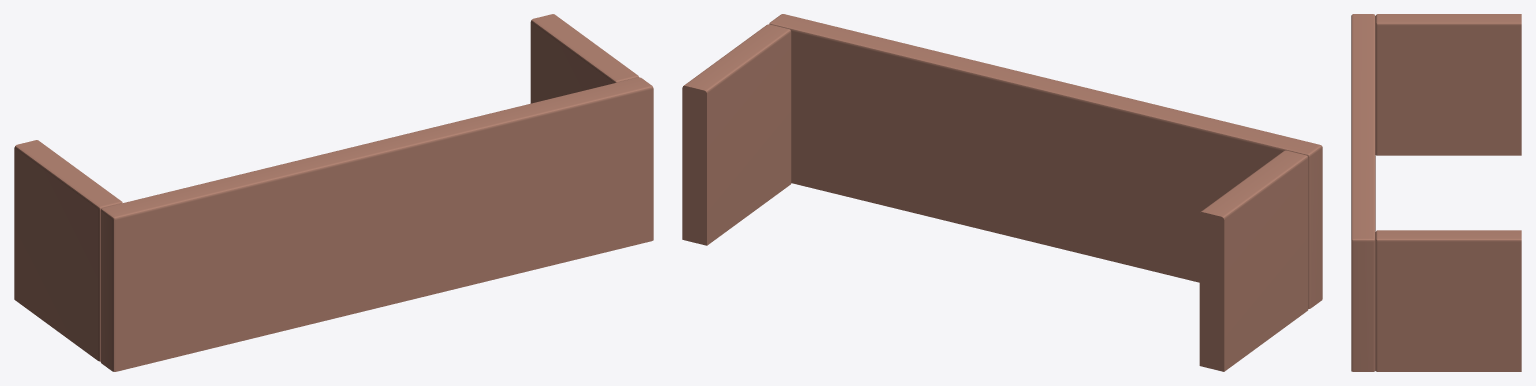
The model's file is pilaster-trims.glb.
3 views of the same model, side by side, from view 1: azimuth 30°, elevation 25°; view 2: azimuth 150°, elevation 25°; view 3: azimuth 270°, elevation 25° (orthographic). The views are drawn at different scales.
Visible parts, largest first — view 1: pilaster-trims; view 2: pilaster-trims; view 3: pilaster-trims.
Boxes of the visible parts, <box> form: pilaster-trims: <box>14,14,653,371</box>; pilaster-trims: <box>682,14,1322,371</box>; pilaster-trims: <box>1351,14,1521,371</box>.
Bounding box in the file's own units: 0.44 × 0.12 × 0.14.
